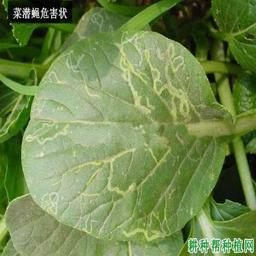liriomyza: (25, 30, 220, 242)
